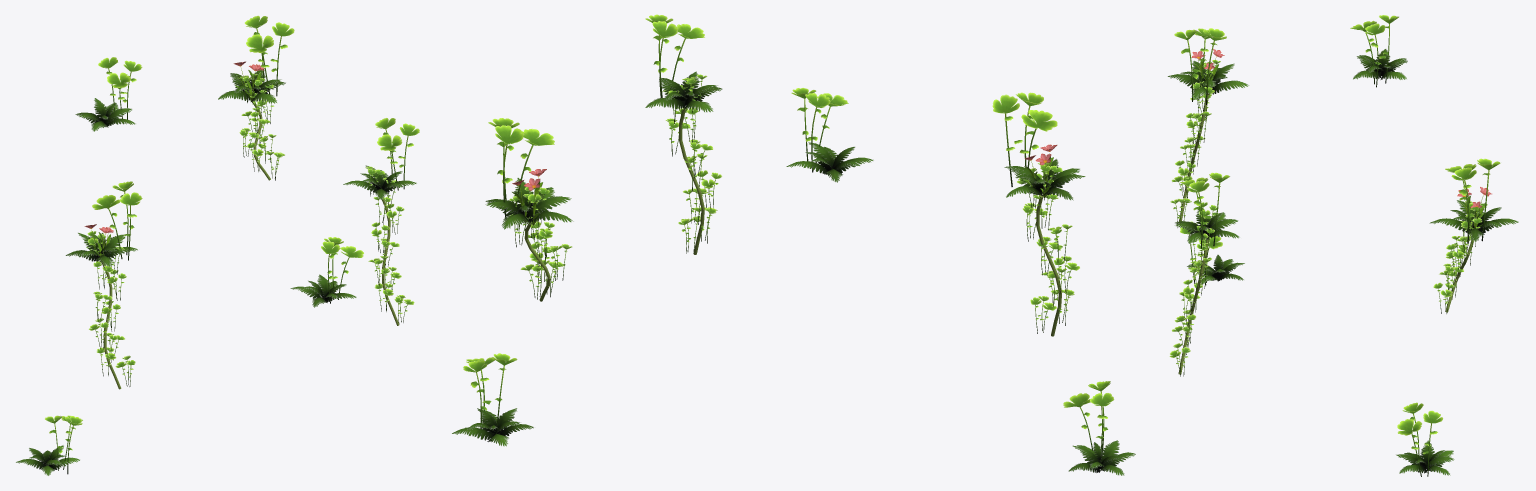
Rendered from Woodland_Pump_House_Greenery.glb.
The picture shows the model from 3 angles, left to right: view 1: azimuth 30°, elevation 25°; view 2: azimuth 150°, elevation 25°; view 3: azimuth 270°, elevation 25°; orthographic projection. The views are drawn at different scales.
Parts seen in each view (by area): view 1: Patch_00, Patch_02, Patch_04, Patch_03, Patch_07, Patch_06; view 2: Patch_00, Patch_04, Patch_02, Patch_03, Patch_07, Patch_06; view 3: Patch_00, Patch_02, Patch_04, Patch_07, Patch_03, Patch_06, Patch_01.
Part boxes in pixels (left/top/right/bottom): Patch_00: left=65, top=181, right=142, bottom=389; Patch_02: left=343, top=118, right=419, bottom=325; Patch_04: left=218, top=15, right=294, bottom=180; Patch_03: left=75, top=57, right=142, bottom=131; Patch_07: left=290, top=237, right=363, bottom=307; Patch_06: left=16, top=415, right=82, bottom=475; Patch_00: left=992, top=92, right=1085, bottom=336; Patch_04: left=485, top=118, right=573, bottom=301; Patch_02: left=645, top=14, right=722, bottom=254; Patch_03: left=786, top=87, right=873, bottom=182; Patch_07: left=452, top=353, right=533, bottom=446; Patch_06: left=1063, top=381, right=1135, bottom=475; Patch_00: left=1167, top=28, right=1249, bottom=228; Patch_02: left=1169, top=172, right=1239, bottom=376; Patch_04: left=1429, top=158, right=1518, bottom=313; Patch_07: left=1395, top=402, right=1454, bottom=476; Patch_03: left=1350, top=15, right=1407, bottom=87; Patch_06: left=1179, top=221, right=1244, bottom=285; Patch_01: left=1192, top=49, right=1224, bottom=94.
Bounding box in the file's own units: 5.12 × 3.6 × 3.4.
5 materials, 4 textured.
